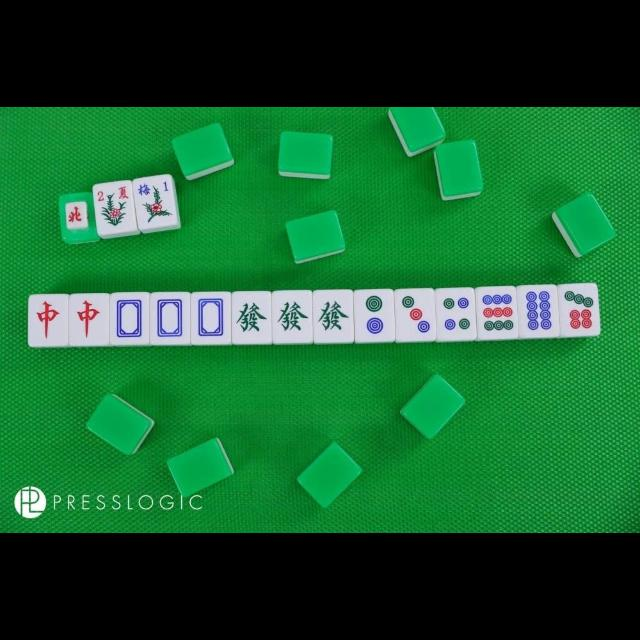d2: (356, 292, 394, 342)
d3: (396, 290, 434, 340)
d4: (436, 288, 476, 342)
d7: (559, 284, 601, 338)
d8: (518, 286, 562, 338)
d9: (478, 288, 518, 340)
dg: (314, 292, 354, 344), (234, 292, 272, 346), (274, 292, 312, 344)
dr: (69, 294, 109, 344), (30, 294, 68, 344)
dw: (150, 293, 192, 345), (110, 293, 150, 345), (192, 292, 232, 344)
f1: (135, 177, 173, 199)
s2: (95, 181, 132, 205)
